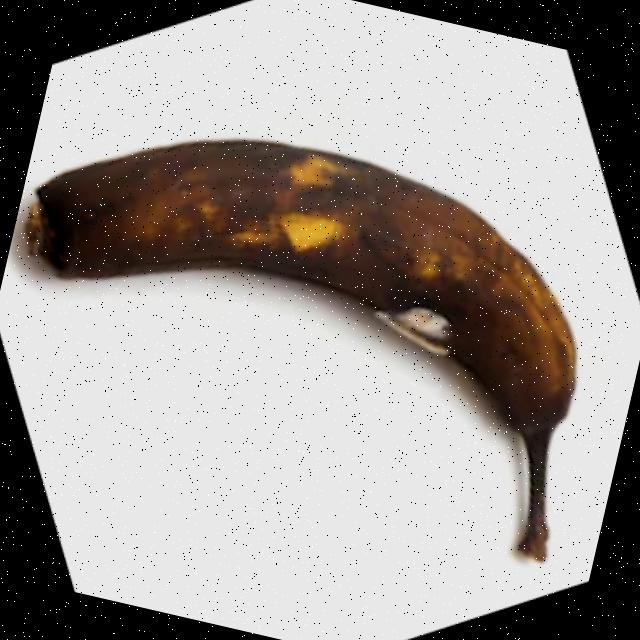Rotten: (0, 83, 625, 564)
